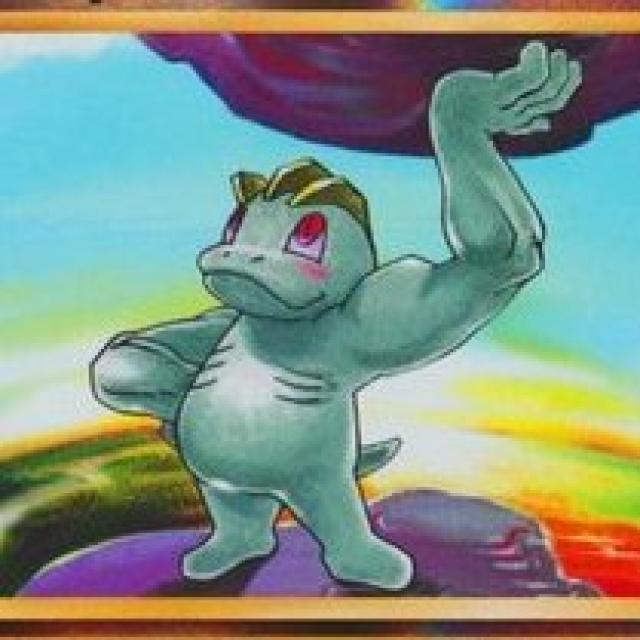Machop: (125, 152, 466, 595)
